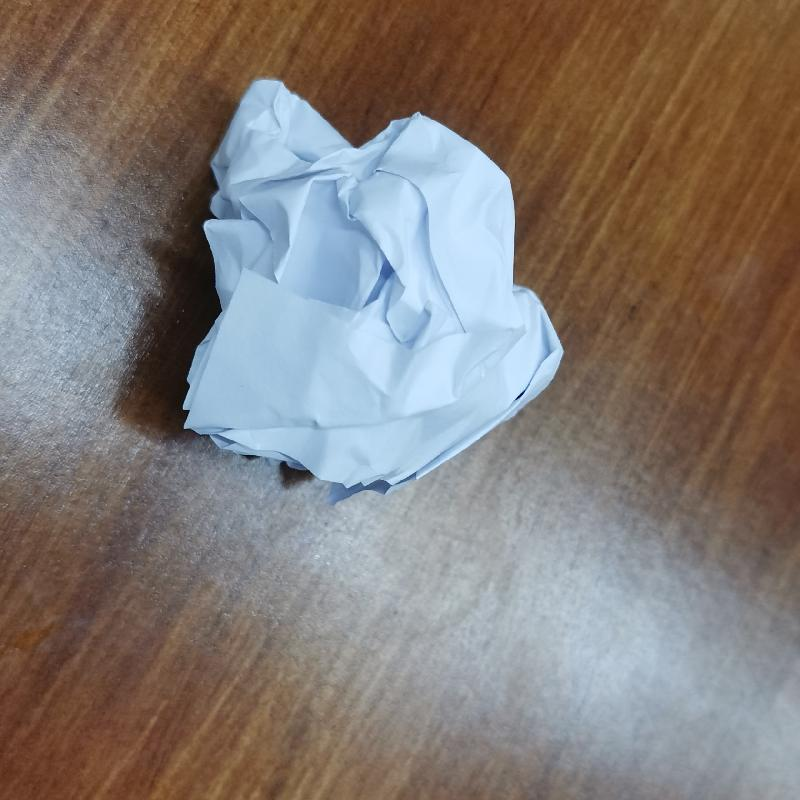spitball: (165, 72, 579, 508)
